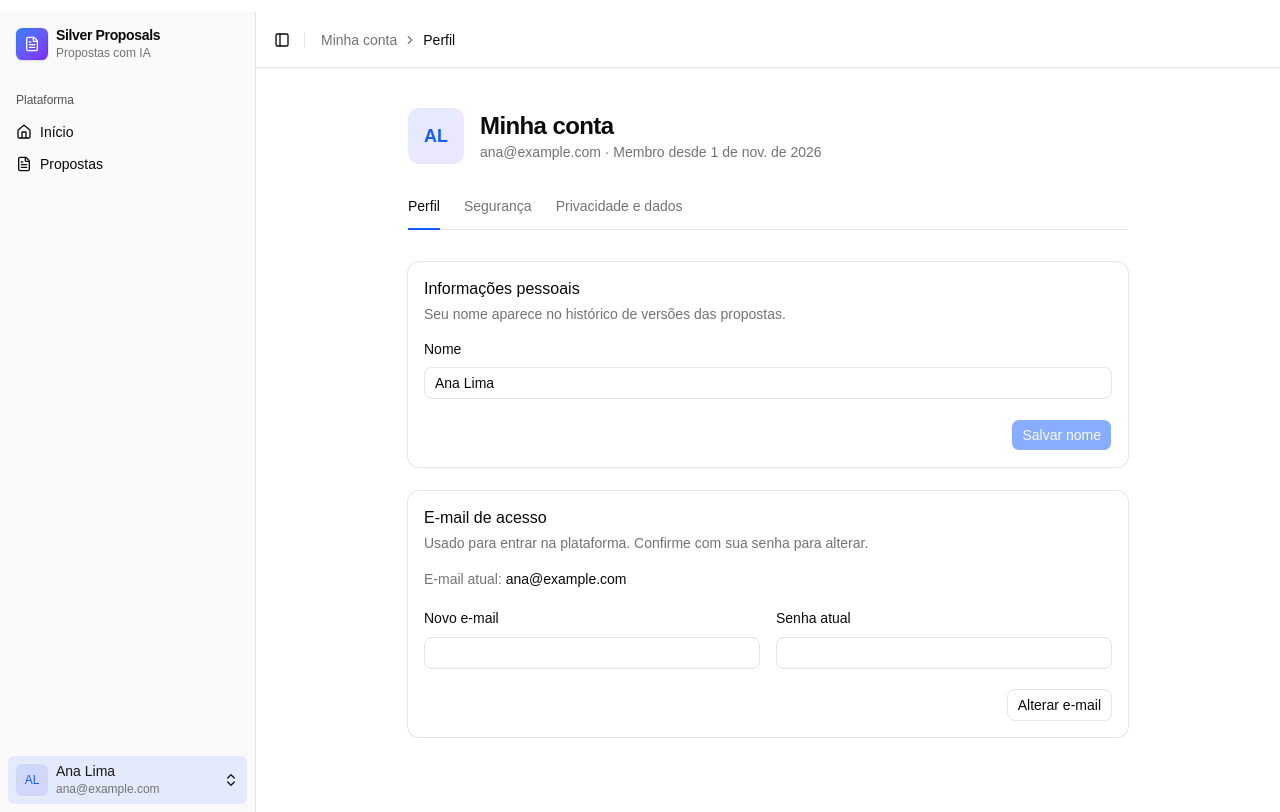
Scenario: ProfilePage › saves a new name and updates the session
Expected: the button "Salvar nome" is disabled, [1011,419,1112,451]
Replace the text in the field labelled "Nome" with "Ana Souza": [768, 383] box [424,367,1112,399]
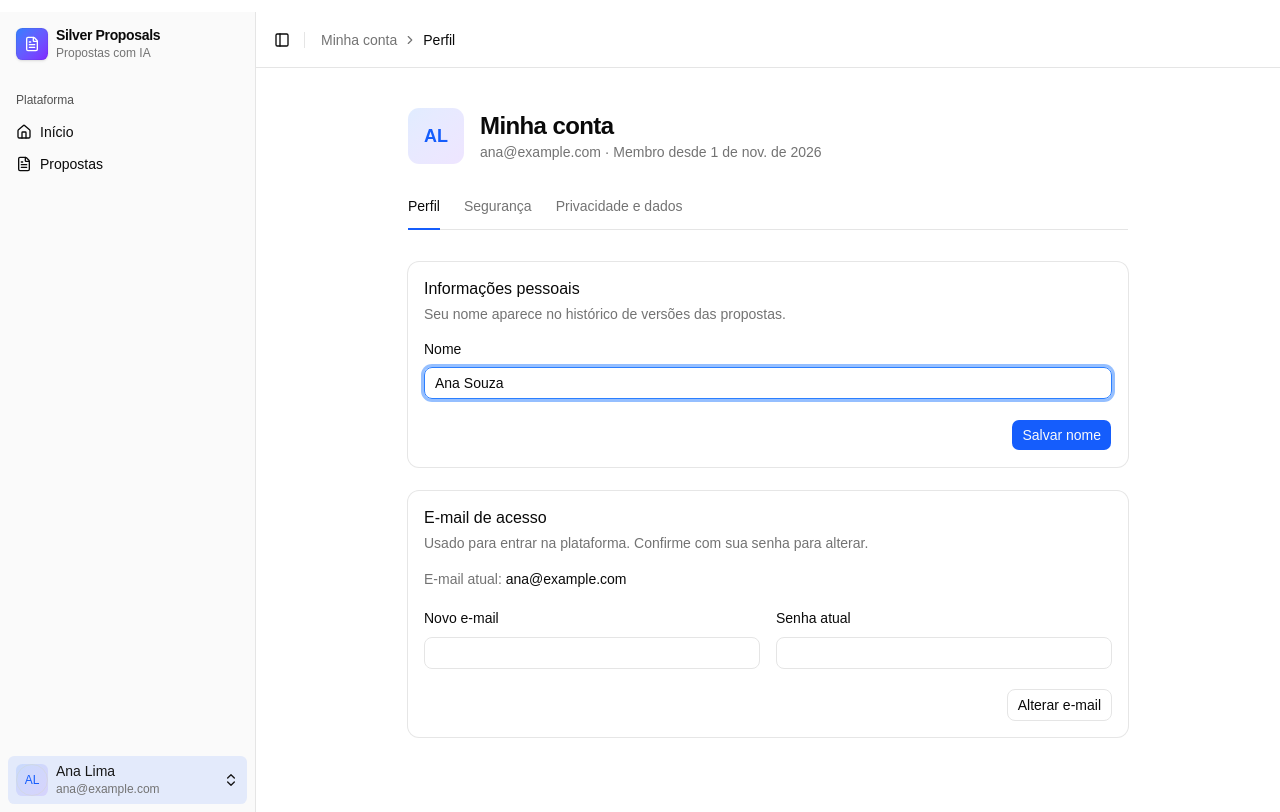
Click the button "Salvar nome": [1062, 435] box [1011,419,1112,451]
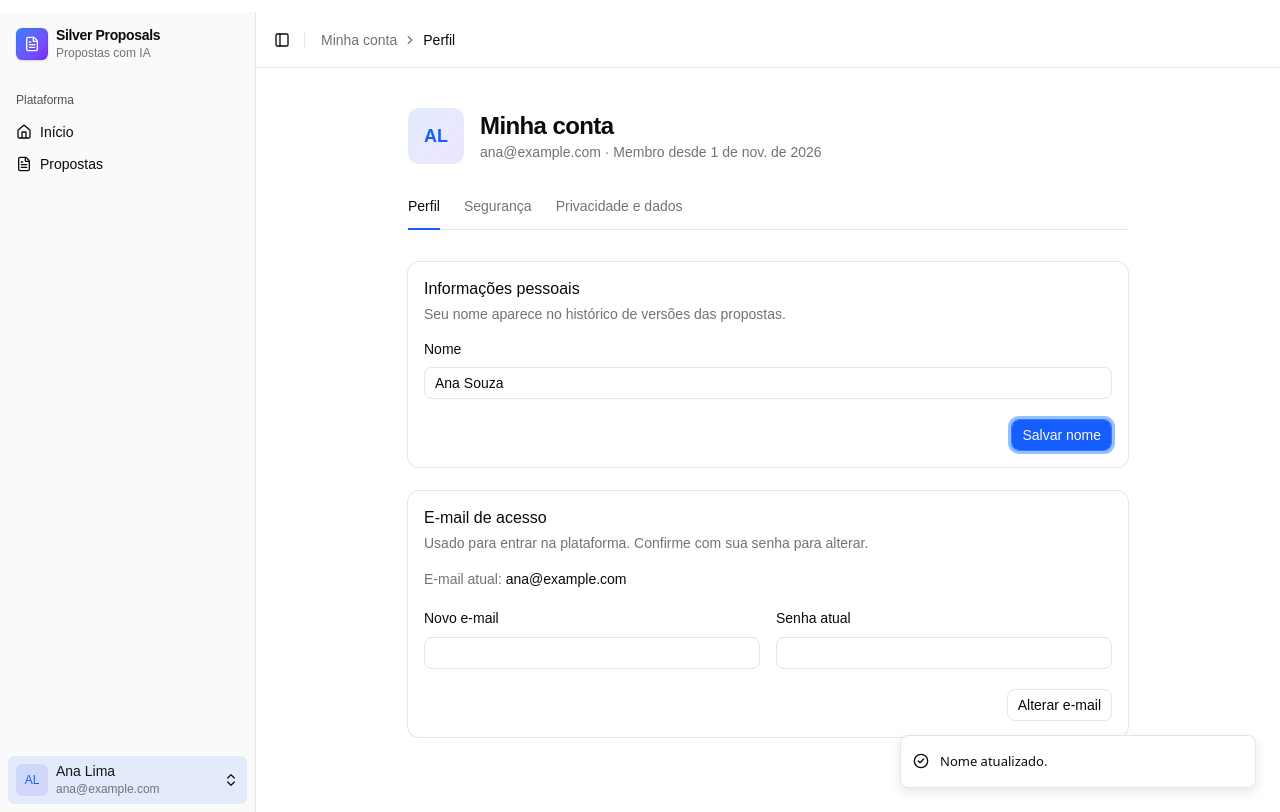
Expected: the text "Nome atualizado." is shown, [940,752,1047,771]
